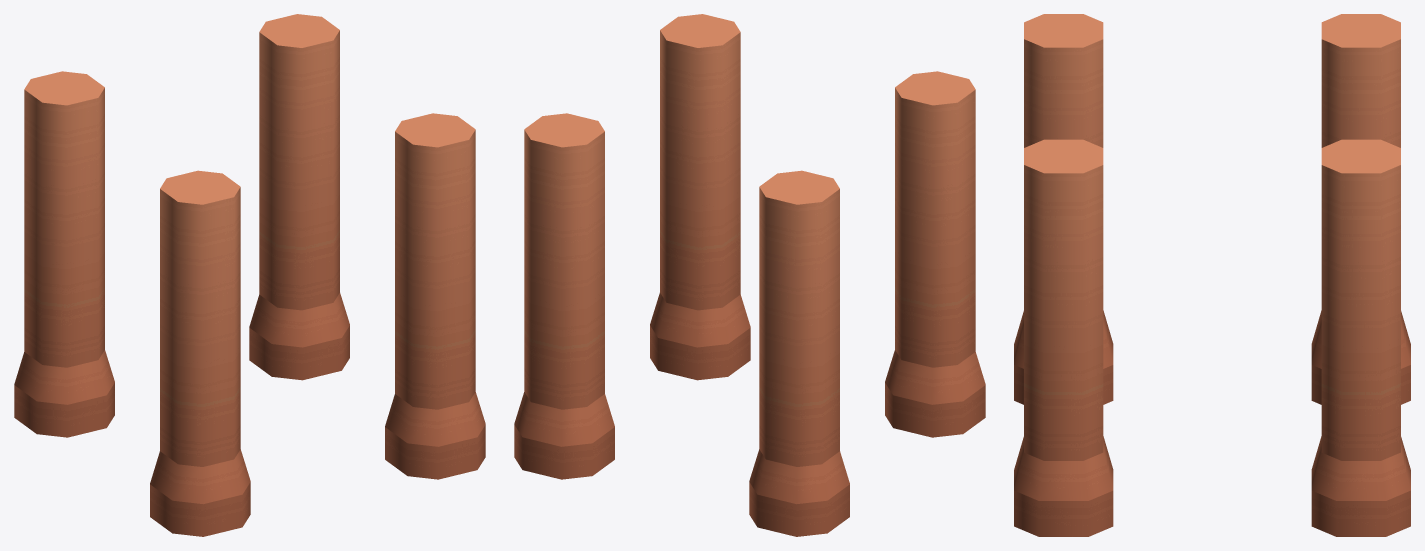
File: supports_bottom.glb
3 renders of one model, left to right at view 1: azimuth 30°, elevation 25°; view 2: azimuth 150°, elevation 25°; view 3: azimuth 270°, elevation 25°, orthographic. The views are drawn at different scales.
Parts seen in each view (by area): view 1: supports-bottom; view 2: supports-bottom; view 3: supports-bottom.
Part boxes in pixels (left/top/right/bottom): supports-bottom: left=14, top=14, right=485, bottom=536; supports-bottom: left=514, top=14, right=985, bottom=536; supports-bottom: left=1014, top=14, right=1410, bottom=536.
Bounding box in the file's own units: 1 × 1 × 1.
1 material, 1 textured.
